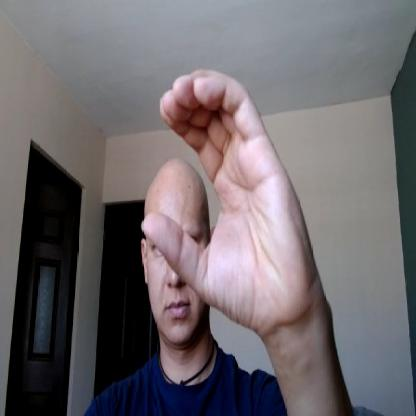C: (142, 70, 308, 334)
